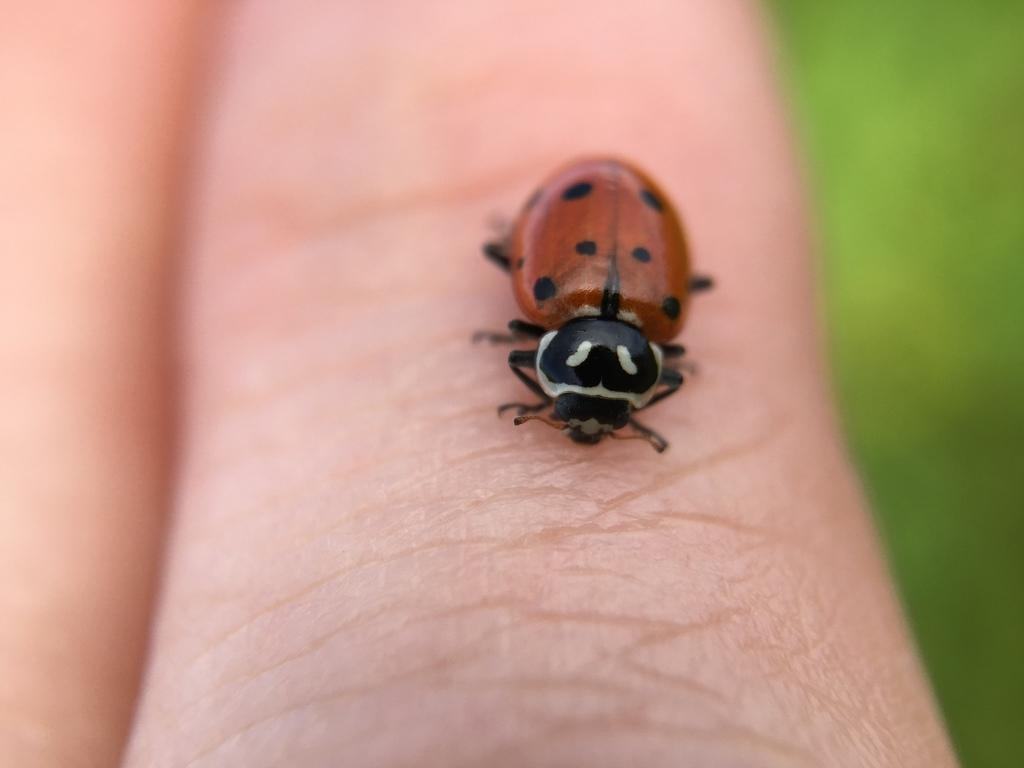ladybug: (473, 155, 721, 457)
